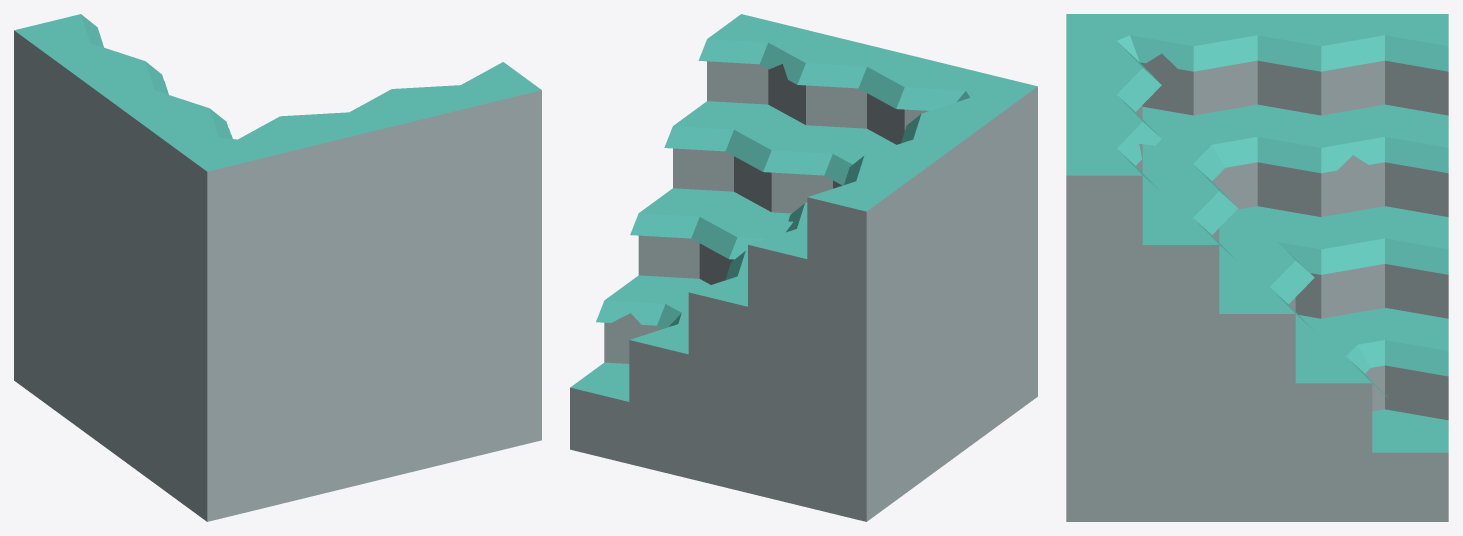
Rendered from cliff_stepsCornerInner_stone.glb.
3 renders of one model, left to right at view 1: azimuth 30°, elevation 25°; view 2: azimuth 150°, elevation 25°; view 3: azimuth 270°, elevation 25°, orthographic. The views are drawn at different scales.
Visible parts, largest first — view 1: cliff_stepsCornerInner_stone; view 2: cliff_stepsCornerInner_stone; view 3: cliff_stepsCornerInner_stone.
Boxes of the visible parts, x1,y1,x2,y2 form: cliff_stepsCornerInner_stone: [14, 14, 541, 521]; cliff_stepsCornerInner_stone: [570, 14, 1037, 521]; cliff_stepsCornerInner_stone: [1066, 14, 1448, 521].
Size of the model in its own units: 1 by 1 by 1.
